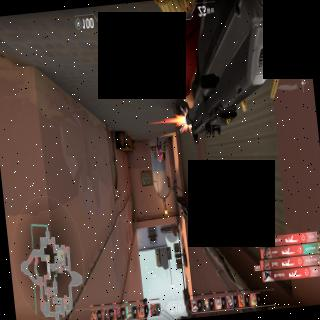ENEMY-BODY: (156, 136, 163, 162)
ENEMY-HEAD: (158, 158, 162, 162)
